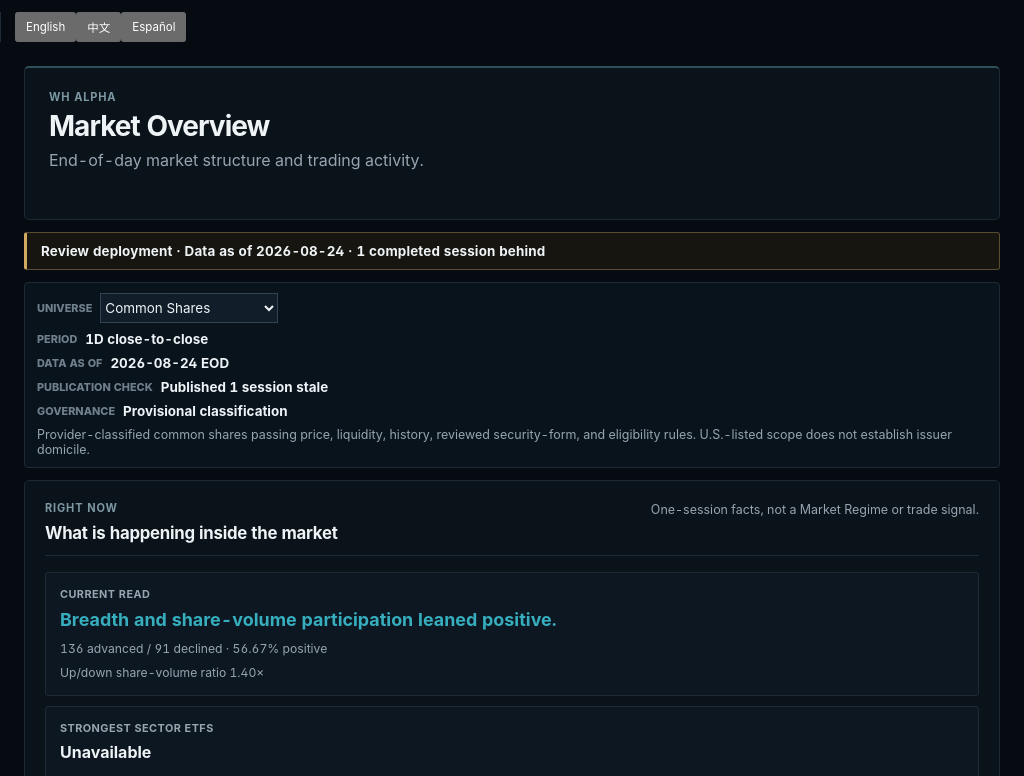
MarketDashboardPage › shows the exact review-deployment banner in both languages
The image size is (1024, 776).
Expected: the text "Review deployment · Data as of 2026-08-24 · 1 completed session behind" is shown, [41,243,545,259]
Click the button "中文": (99, 27) [76,12,121,42]
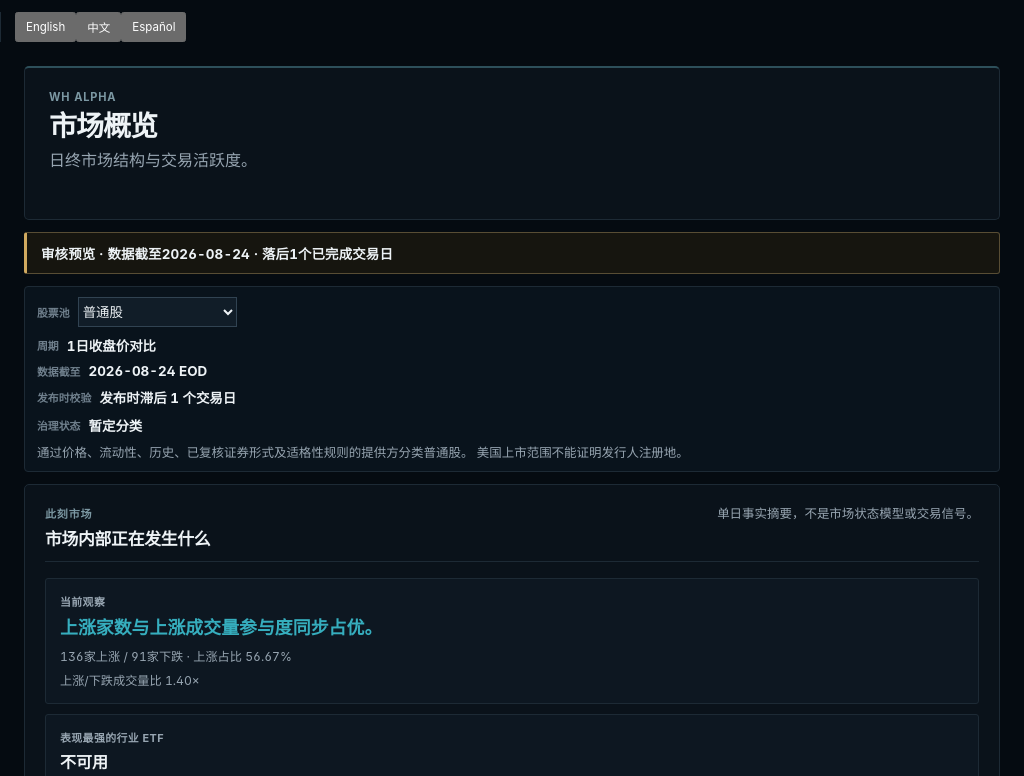
Result: the text "审核预览 · 数据截至2026-08-24 · 落后1个已完成交易日" is shown at [41,246,393,262]
